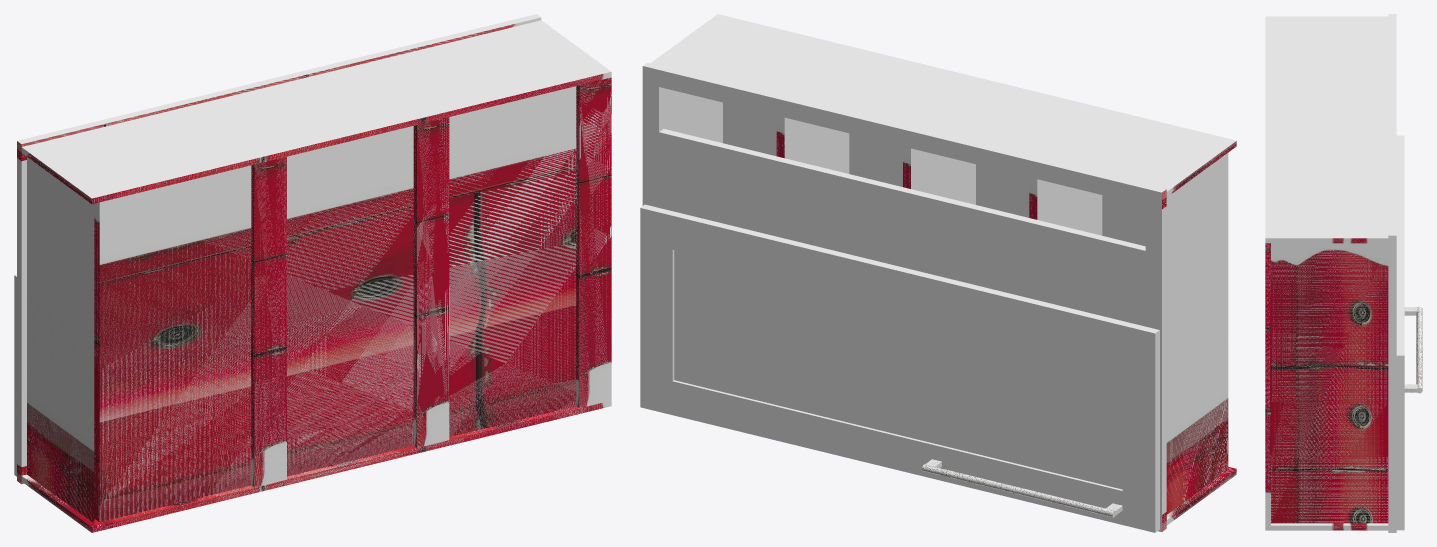
The picture shows the model from 3 angles, left to right: view 1: azimuth 30°, elevation 25°; view 2: azimuth 150°, elevation 25°; view 3: azimuth 270°, elevation 25°; orthographic projection. The views are drawn at different scales.
Parts seen in each view (by area): view 1: mesh6_mesh6-geometry, mesh8_mesh8-geometry, mesh3_mesh3-geometry, mesh1_mesh1-geometry, mesh7_mesh7-geometry, mesh9_mesh9-geometry, mesh4_mesh4-geometry, mesh2_mesh2-geometry; view 2: mesh17_mesh17-geometry, mesh11_mesh11-geometry, mesh8_mesh8-geometry, mesh1_mesh1-geometry, mesh14_mesh14-geometry, mesh13_mesh13-geometry, mesh9_mesh9-geometry, mesh12_mesh12-geometry, mesh5_mesh5-geometry, mesh4_mesh4-geometry, mesh16_mesh16-geometry, mesh15_mesh15-geometry (+2 smaller); view 3: mesh2_mesh2-geometry, mesh8_mesh8-geometry, mesh4_mesh4-geometry, mesh14_mesh14-geometry, mesh9_mesh9-geometry, mesh3_mesh3-geometry, mesh15_mesh15-geometry, mesh7_mesh7-geometry, mesh19_mesh19-geometry, mesh13_mesh13-geometry.
Part boxes in pixels (x1=…): mesh6_mesh6-geometry: x1=99, y1=86, x2=576, y2=522; mesh8_mesh8-geometry: x1=21, y1=20, x2=611, y2=203; mesh3_mesh3-geometry: x1=251, y1=77, x2=611, y2=487; mesh1_mesh1-geometry: x1=27, y1=157, x2=94, y2=523; mesh7_mesh7-geometry: x1=21, y1=400, x2=611, y2=532; mesh9_mesh9-geometry: x1=17, y1=14, x2=541, y2=161; mesh4_mesh4-geometry: x1=17, y1=158, x2=26, y2=467; mesh2_mesh2-geometry: x1=94, y1=202, x2=99, y2=521; mesh17_mesh17-geometry: x1=674, y1=250, x2=1122, y2=489; mesh11_mesh11-geometry: x1=659, y1=129, x2=1145, y2=326; mesh8_mesh8-geometry: x1=651, y1=14, x2=1236, y2=197; mesh1_mesh1-geometry: x1=663, y1=88, x2=1228, y2=514; mesh14_mesh14-geometry: x1=640, y1=204, x2=1159, y2=367; mesh13_mesh13-geometry: x1=640, y1=373, x2=1159, y2=532; mesh9_mesh9-geometry: x1=642, y1=62, x2=1166, y2=209; mesh12_mesh12-geometry: x1=776, y1=116, x2=1102, y2=235; mesh5_mesh5-geometry: x1=723, y1=102, x2=1145, y2=246; mesh4_mesh4-geometry: x1=642, y1=83, x2=1166, y2=514; mesh16_mesh16-geometry: x1=1122, y1=359, x2=1159, y2=498; mesh15_mesh15-geometry: x1=640, y1=242, x2=674, y2=381; mesh2_mesh2-geometry: x1=1271, y1=243, x2=1388, y2=523; mesh8_mesh8-geometry: x1=1265, y1=16, x2=1388, y2=243; mesh4_mesh4-geometry: x1=1388, y1=250, x2=1396, y2=517; mesh14_mesh14-geometry: x1=1396, y1=135, x2=1404, y2=385; mesh9_mesh9-geometry: x1=1388, y1=14, x2=1396, y2=250; mesh3_mesh3-geometry: x1=1265, y1=243, x2=1270, y2=525; mesh15_mesh15-geometry: x1=1396, y1=385, x2=1404, y2=500; mesh7_mesh7-geometry: x1=1265, y1=523, x2=1388, y2=530; mesh19_mesh19-geometry: x1=1416, y1=306, x2=1422, y2=393; mesh13_mesh13-geometry: x1=1396, y1=500, x2=1404, y2=530.
Bounding box in the file's own units: 0.8219 × 0.5137 × 0.2461.
